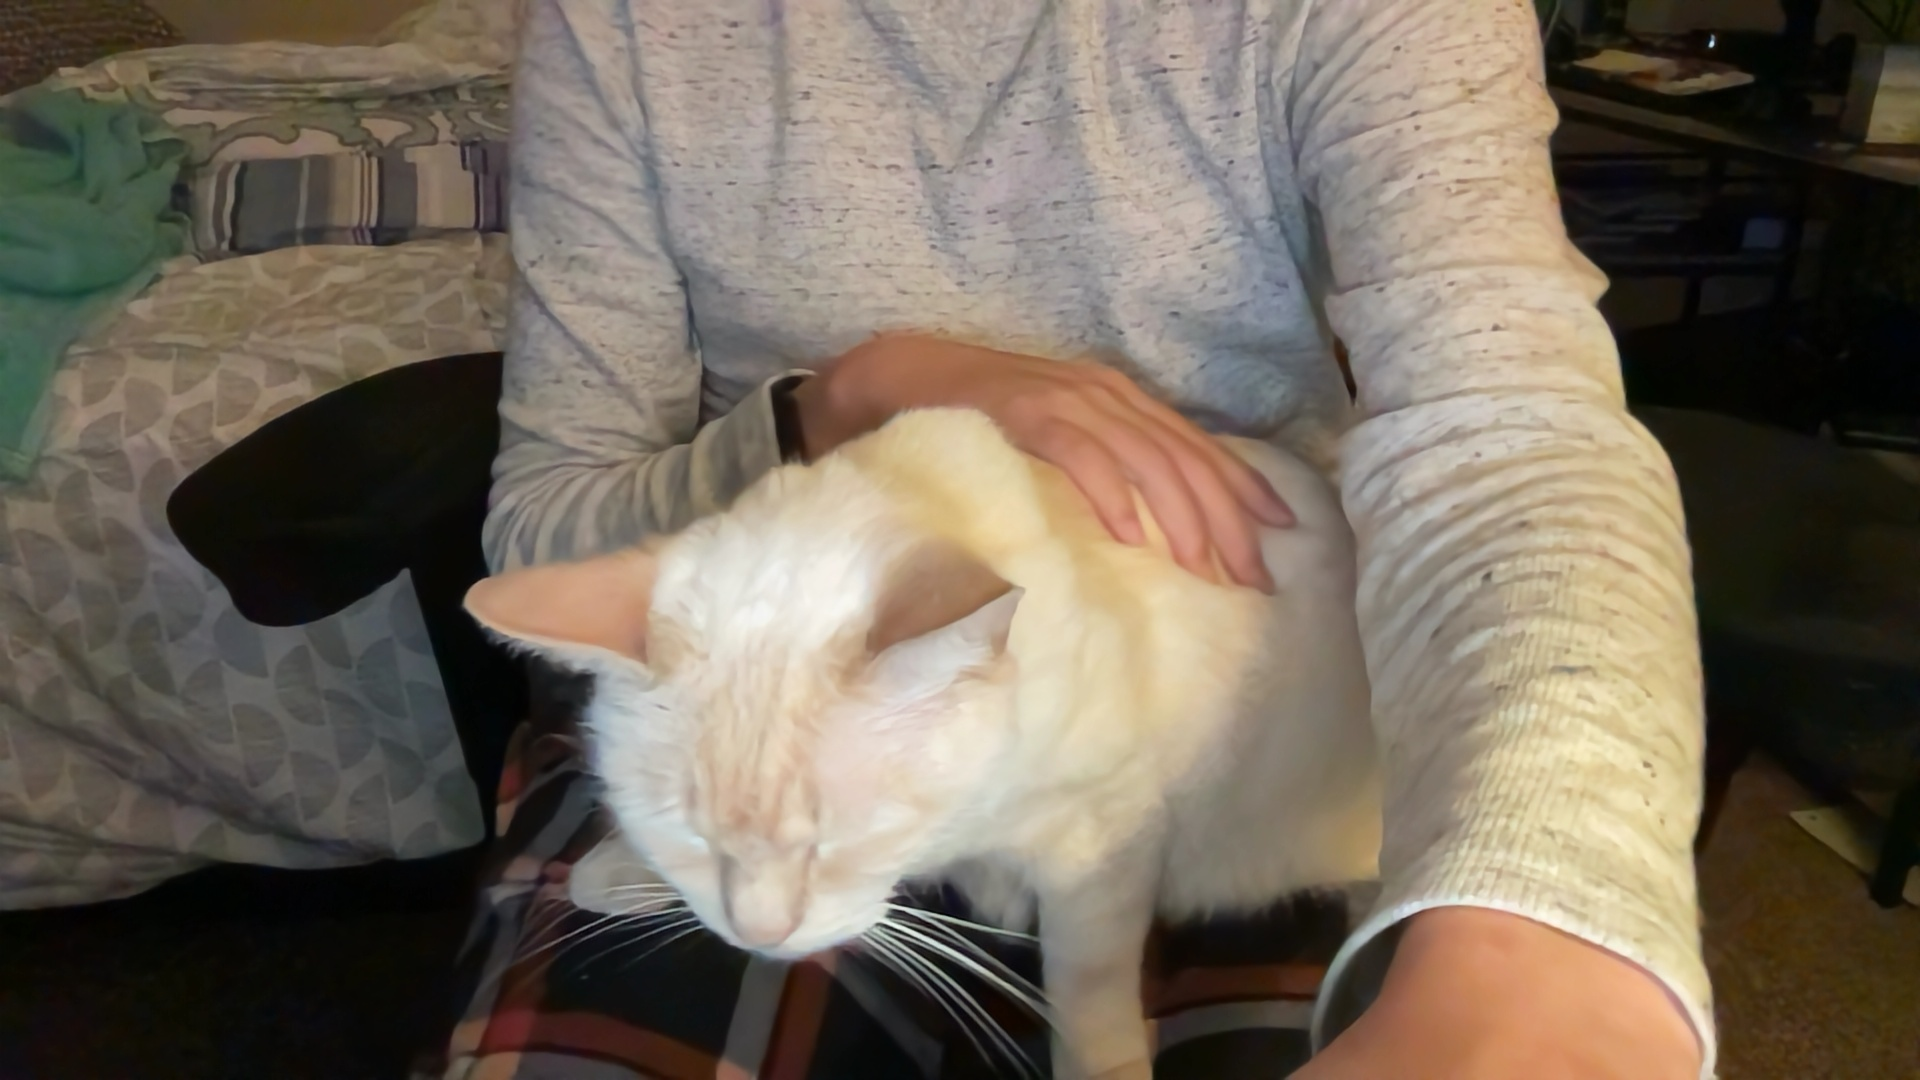cat: (468, 402, 1410, 1080)
